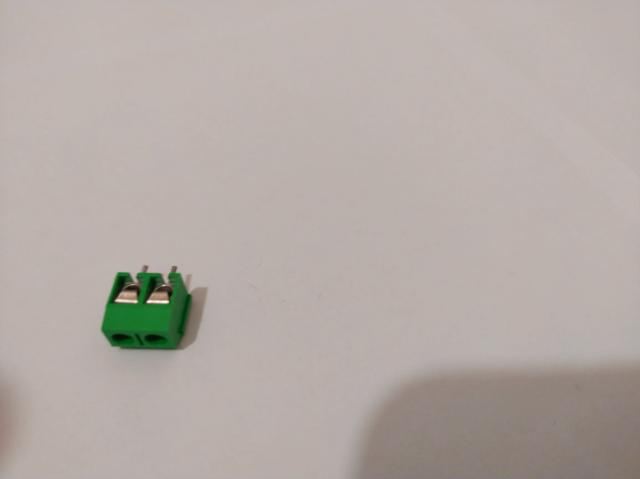terminal_block: (100, 266, 192, 348)
